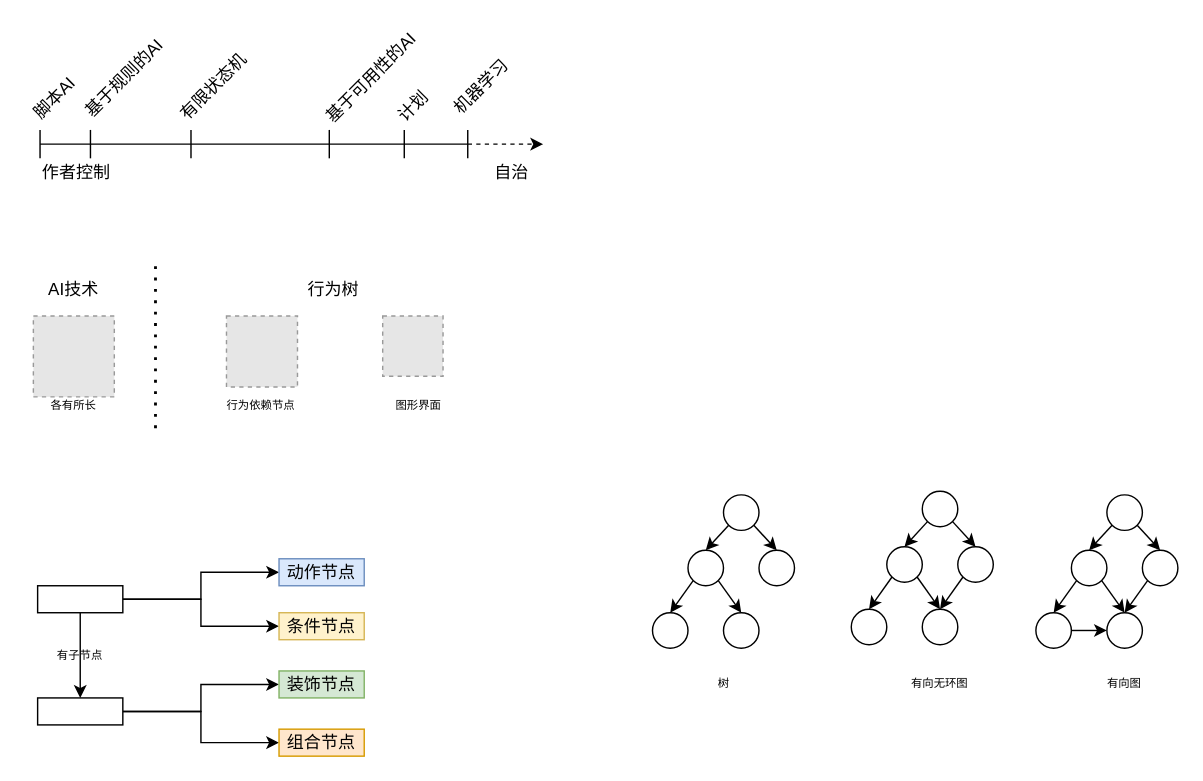
Image size: 1203x781. Some labels were removed from this diagram. Grey dashed boxes stand in for pictures. Here are the shapes that lost their labels. From the top down, the box of each, then its label:
(36, 584, 123, 613): 节点
(36, 697, 123, 725): 父亲节点
